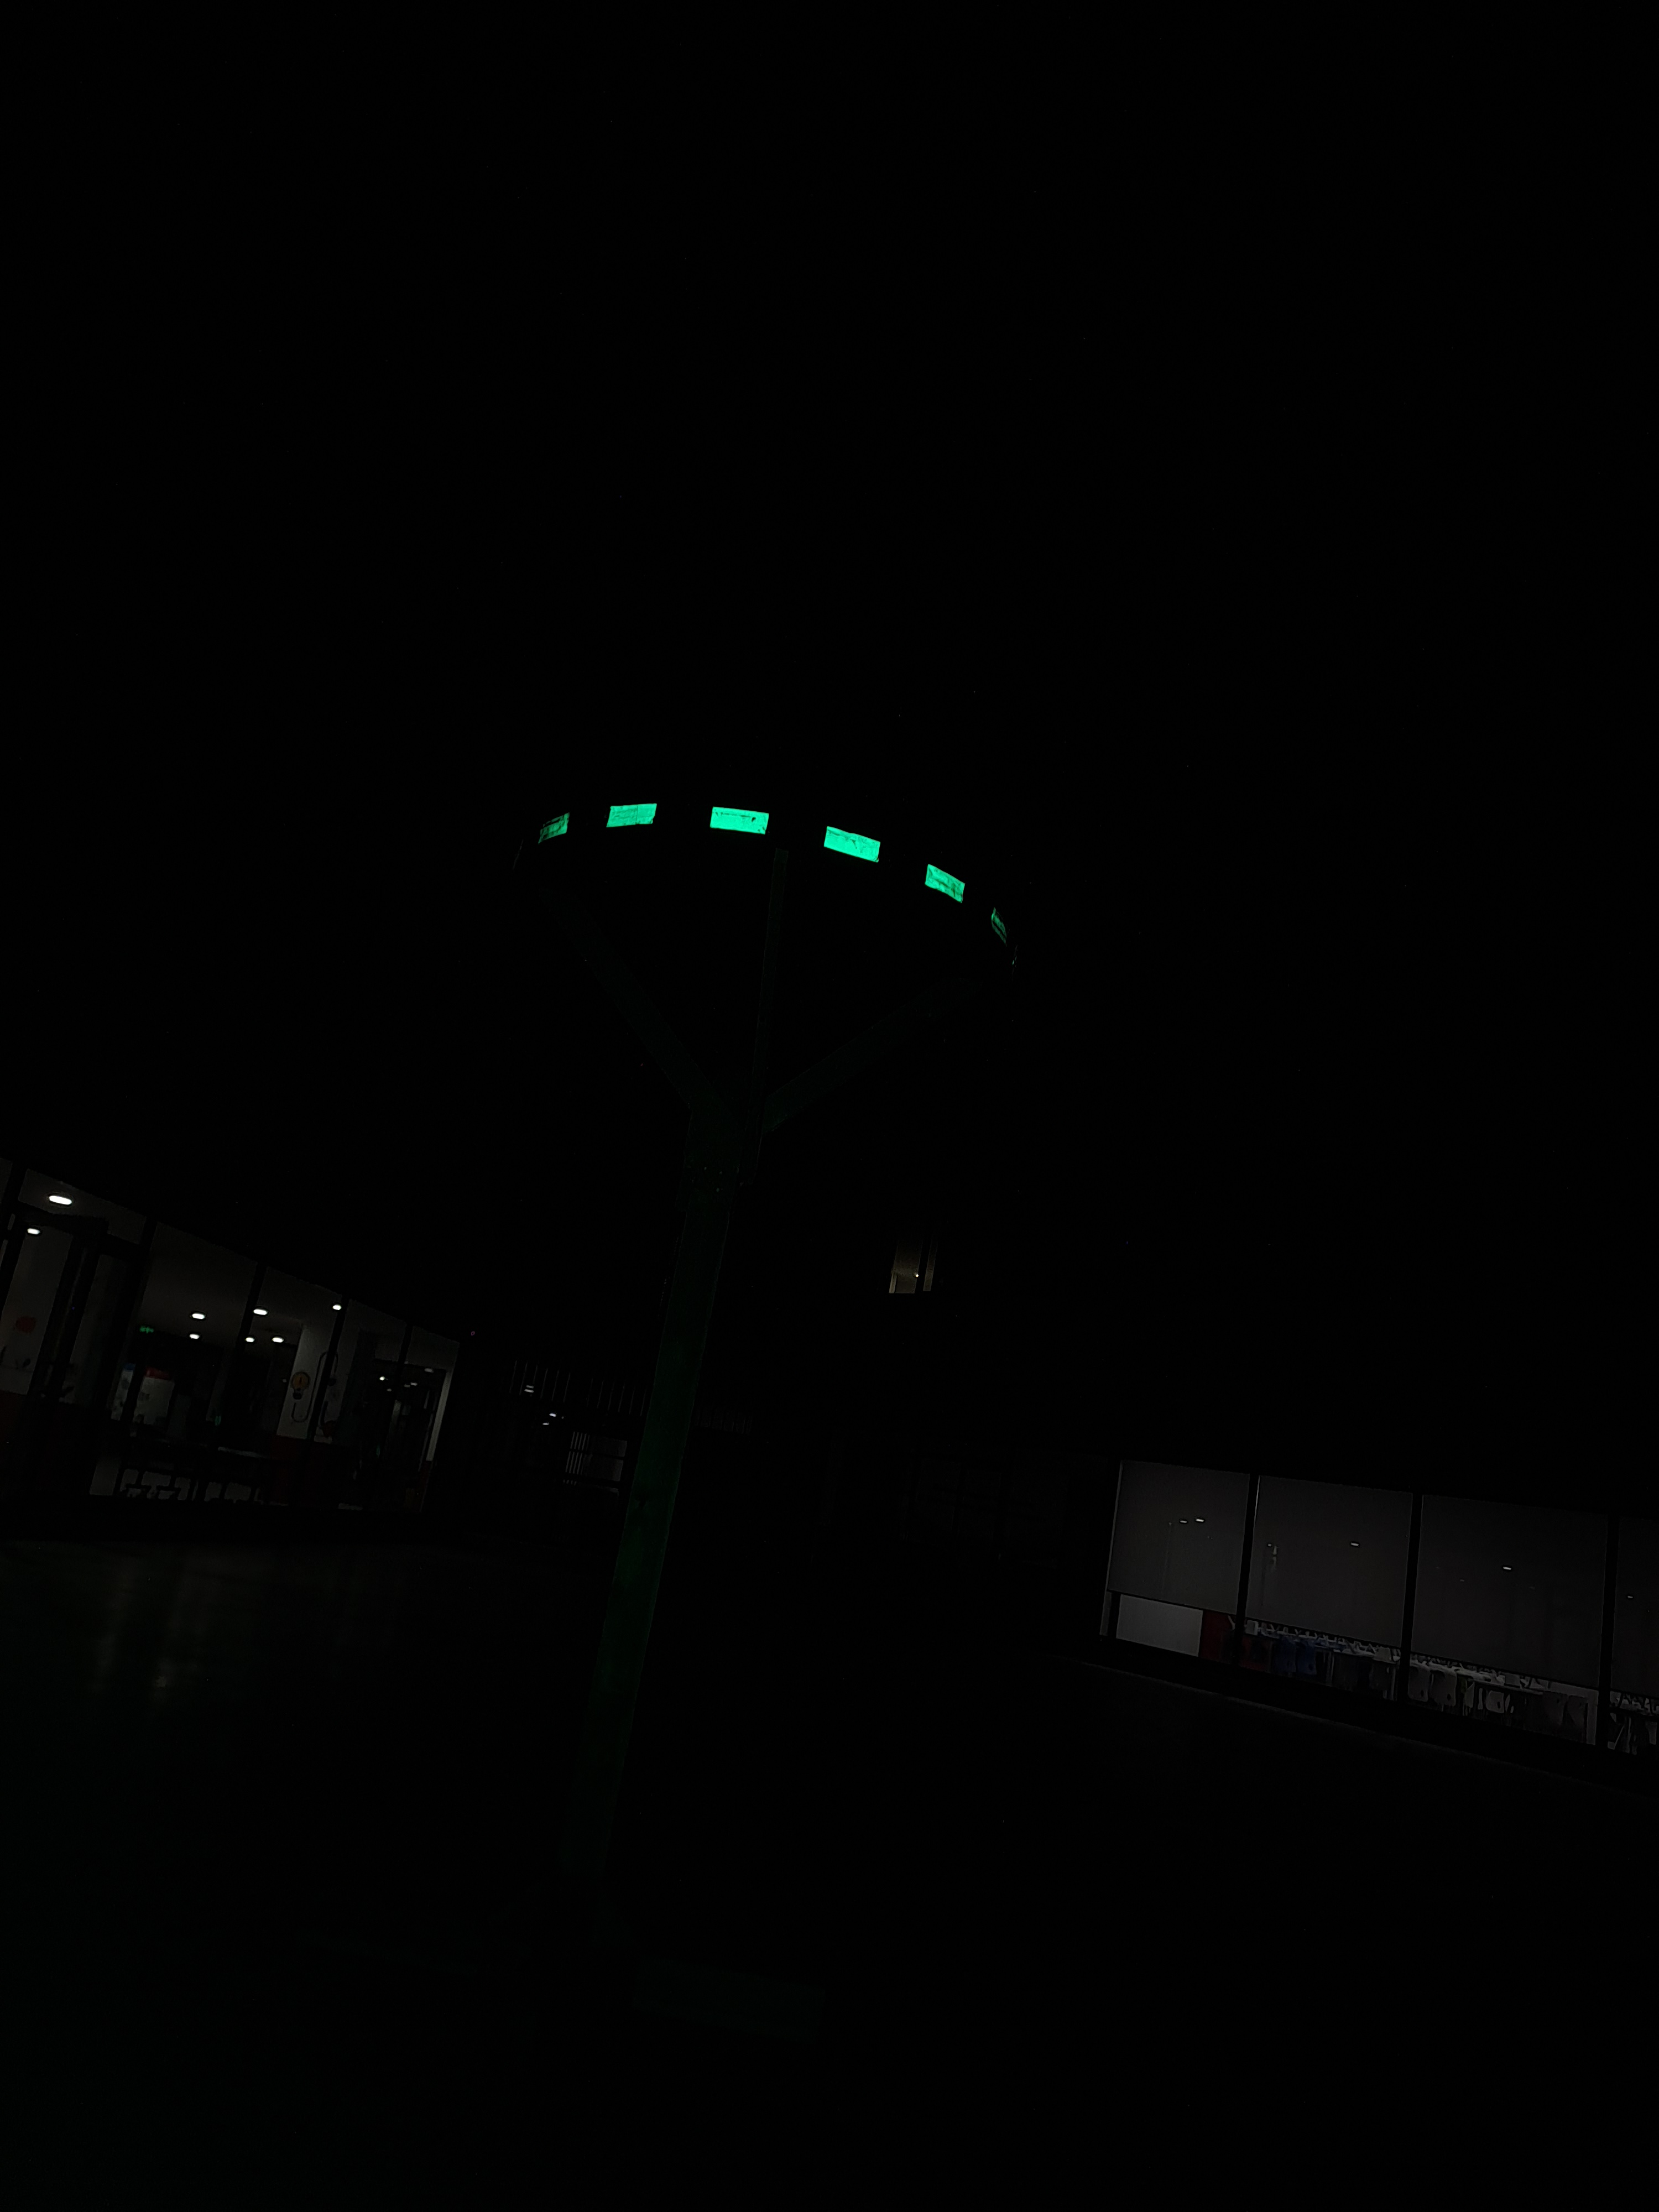hoop: (538, 782, 972, 914)
